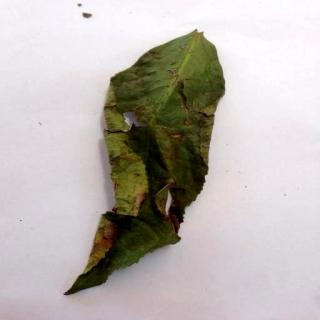Algal Leaf: (67, 32, 227, 297)
